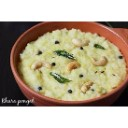venpongal: (23, 31, 125, 93)
